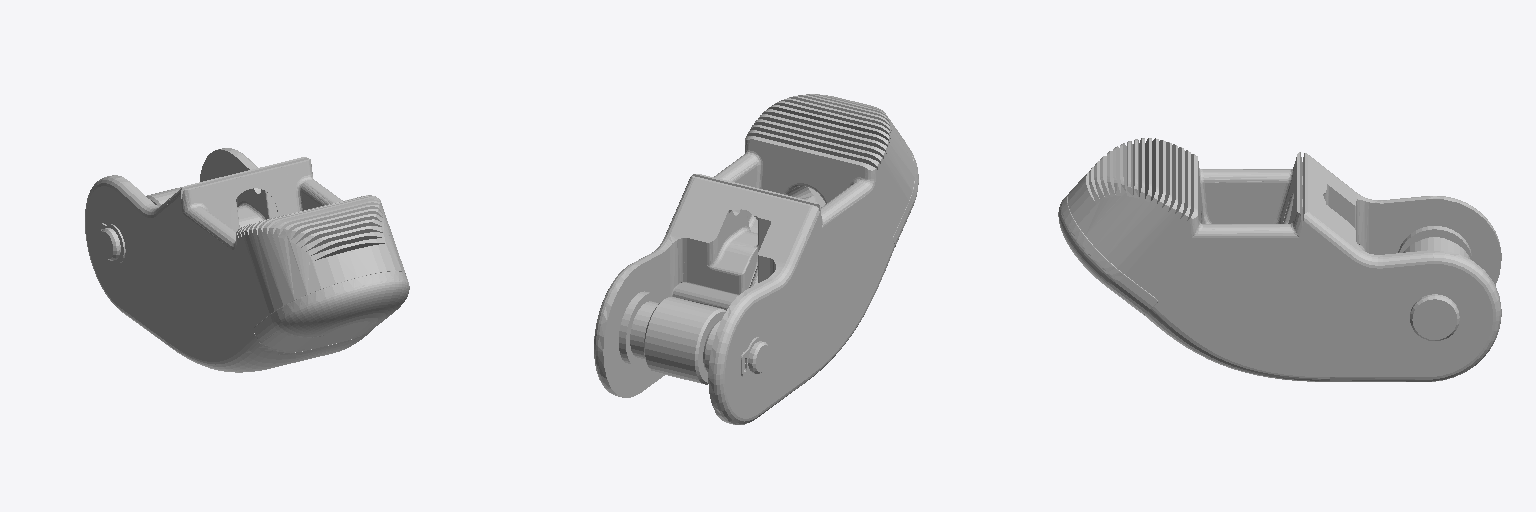
The model's file is lf_distal.obj.
The picture shows the model from 3 angles: view 1: azimuth 30°, elevation 25°; view 2: azimuth 150°, elevation 25°; view 3: azimuth 270°, elevation 25°; orthographic projection.
Visible parts, largest first — view 1: little_distal_tip_SIH_right.092, little_distal_base_SIH_right.090, little_distal_spring_indication_SIH_right.085; view 2: little_distal_tip_SIH_right.092, little_distal_base_SIH_right.090, little_distal_spring_indication_SIH_right.085; view 3: little_distal_tip_SIH_right.092, little_distal_base_SIH_right.090, little_distal_spring_indication_SIH_right.085.
Part boxes in pixels (x1,y1,x2,y2): little_distal_tip_SIH_right.092: (167, 157, 409, 372); little_distal_base_SIH_right.090: (85, 148, 257, 344); little_distal_spring_indication_SIH_right.085: (99, 187, 236, 260); little_distal_tip_SIH_right.092: (678, 94, 918, 383); little_distal_base_SIH_right.090: (594, 204, 805, 424); little_distal_spring_indication_SIH_right.085: (619, 266, 769, 384); little_distal_tip_SIH_right.092: (1058, 138, 1329, 381); little_distal_base_SIH_right.090: (1330, 172, 1501, 381); little_distal_spring_indication_SIH_right.085: (1398, 226, 1471, 340).
Size of the model in its own units: 20 by 25.5 by 53.09.